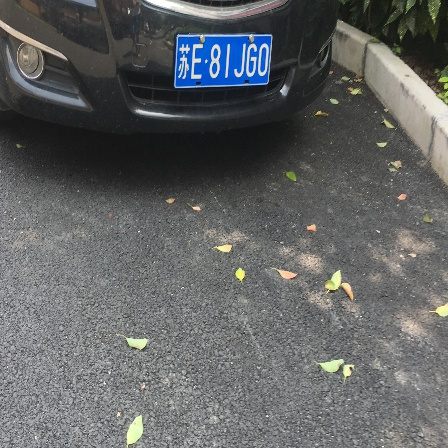plate: (176, 33, 278, 92)
